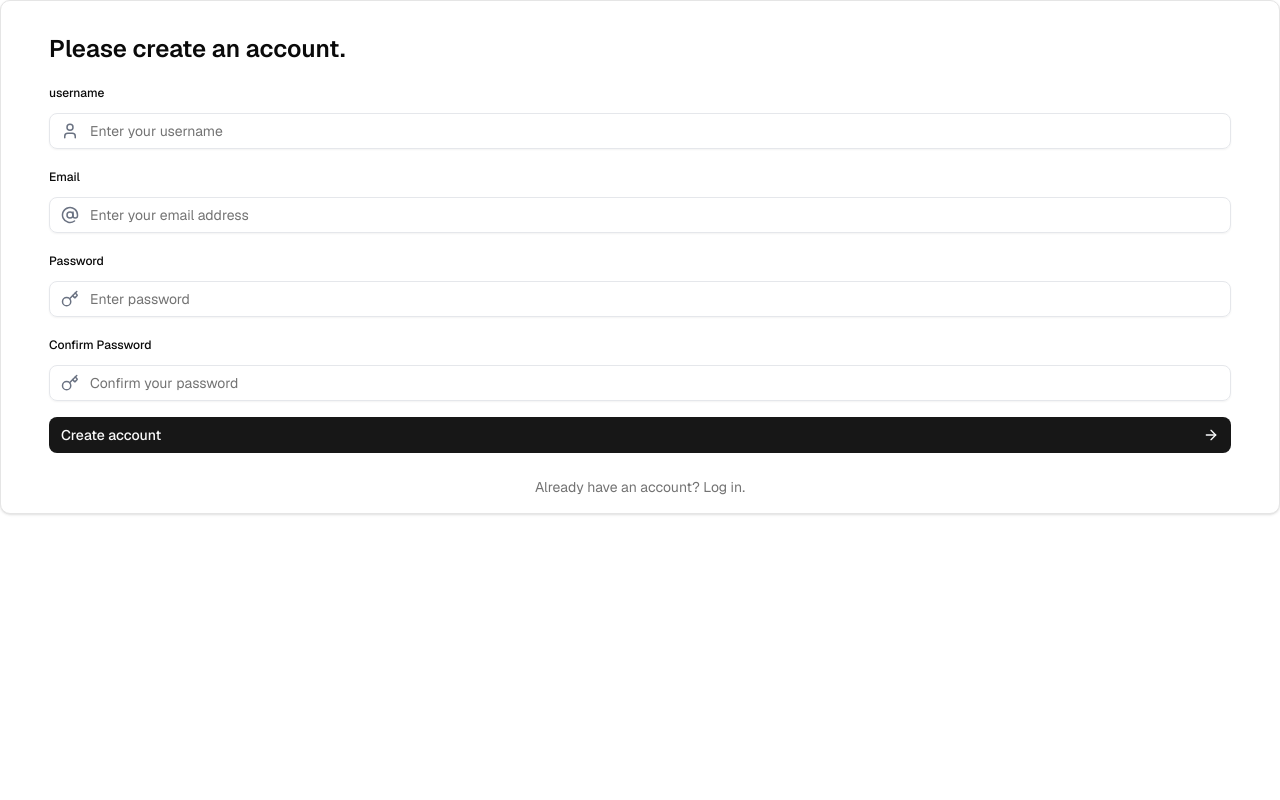
Test: SignUpForm › handles validation errors from backend
# Fill in form fields
In the field labelled "username": (640,131) [49,113,1231,149], type "testuser"
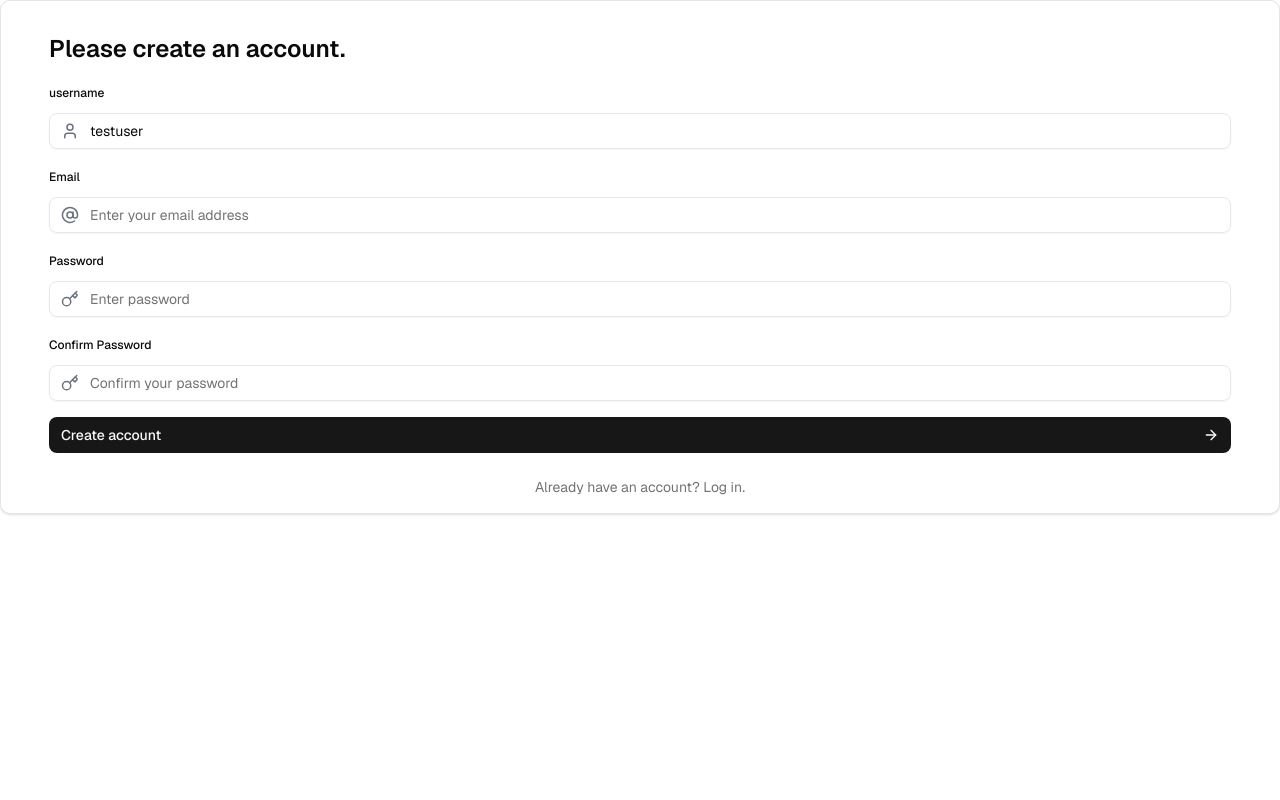
In the field labelled "Email": (640,215) [49,197,1231,233], type "existing@example.com"
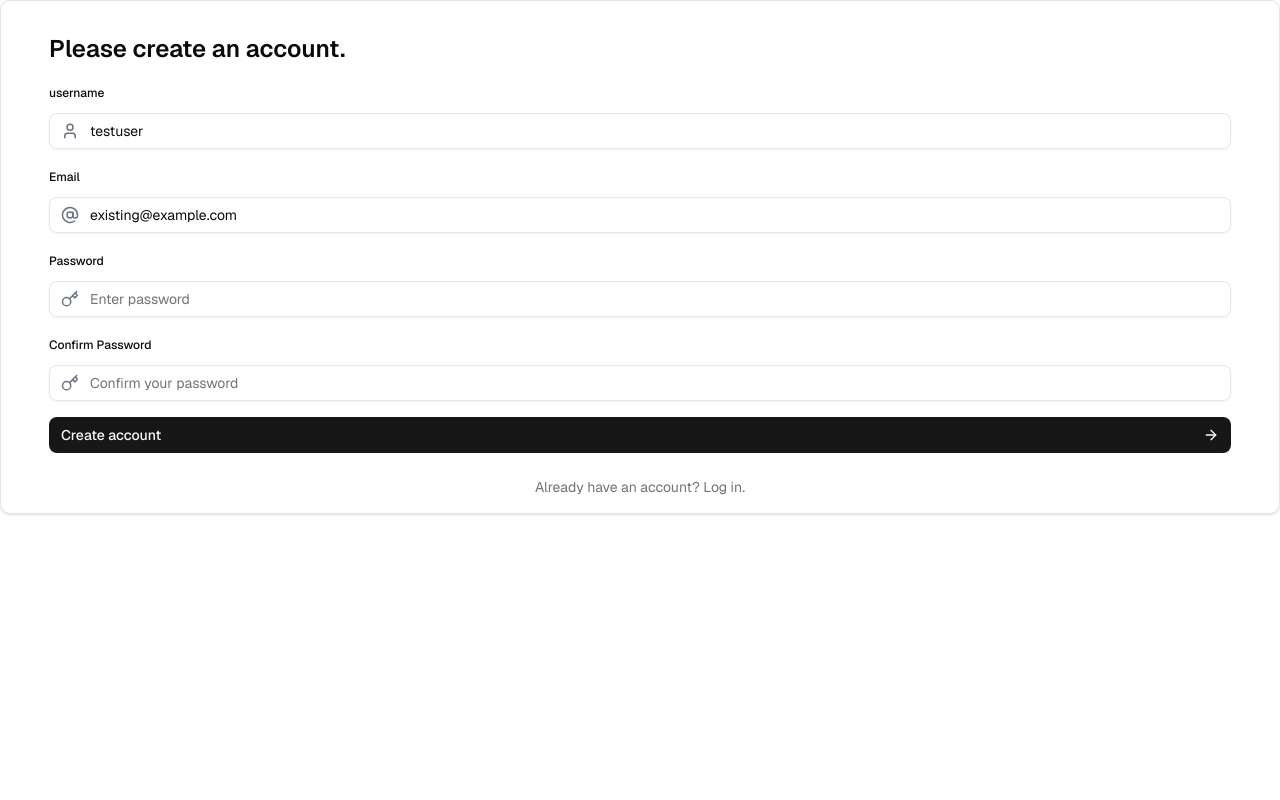
In the password field labelled "Password": (640,299) [49,281,1231,317], type "Password123!@#"
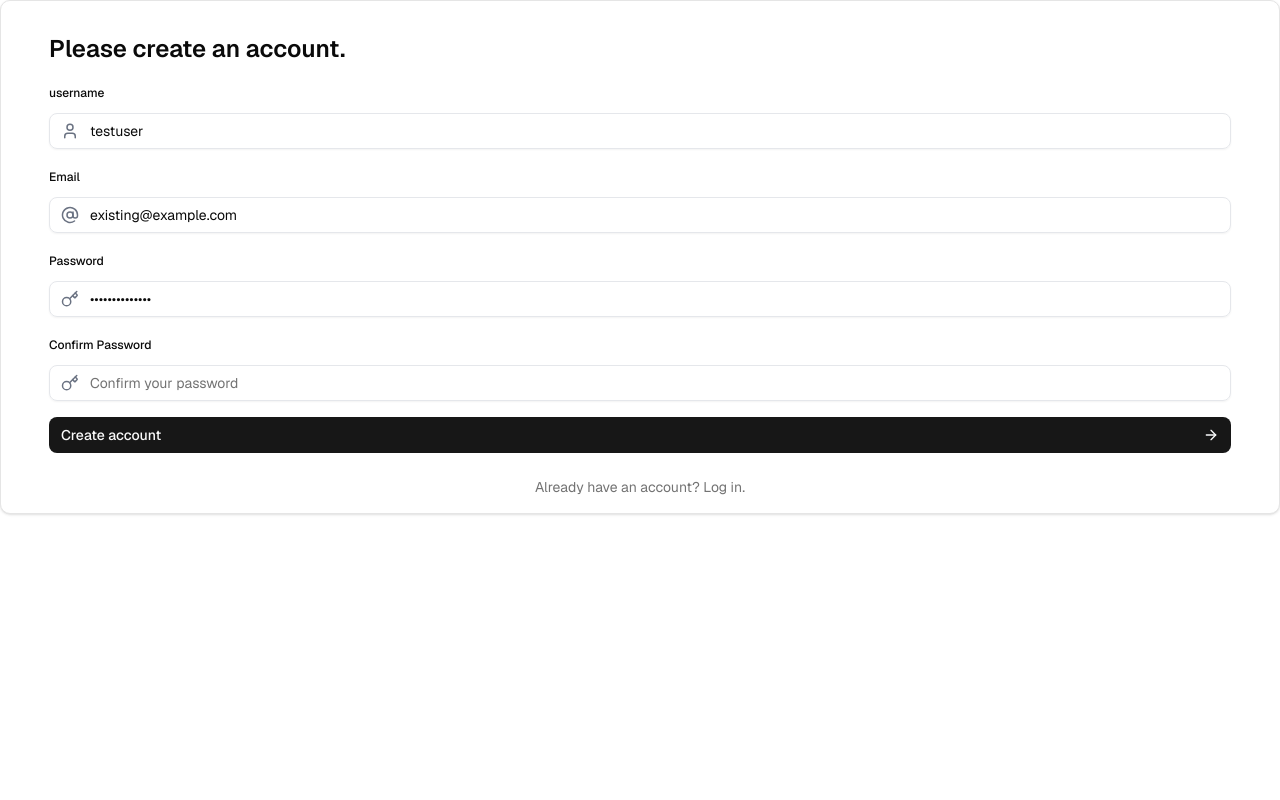
In the password field labelled "Confirm Password": (640,383) [49,365,1231,401], type "Password123!@#"
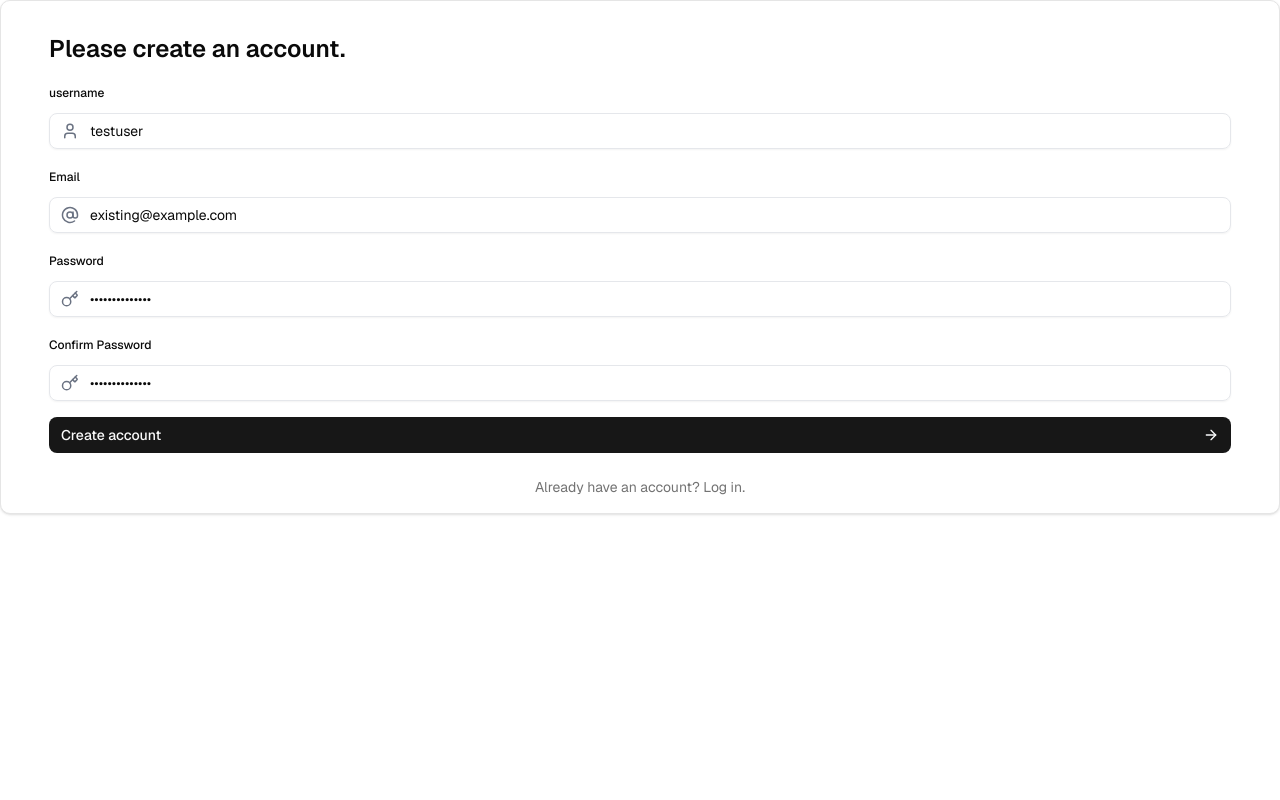
Click the button "Create account": (111,435) [49,417,1231,453]
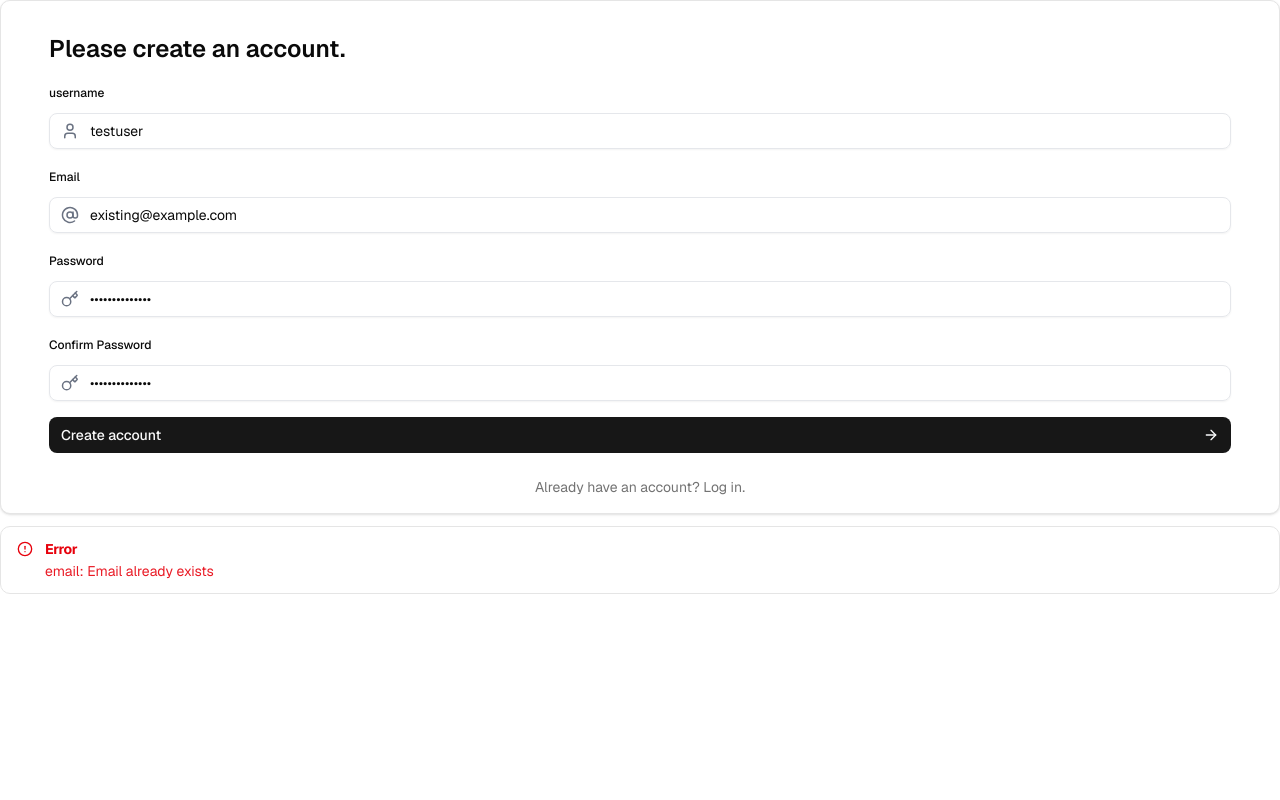
Check: the text "email: Email already exists" is shown, box [45,561,214,581]
